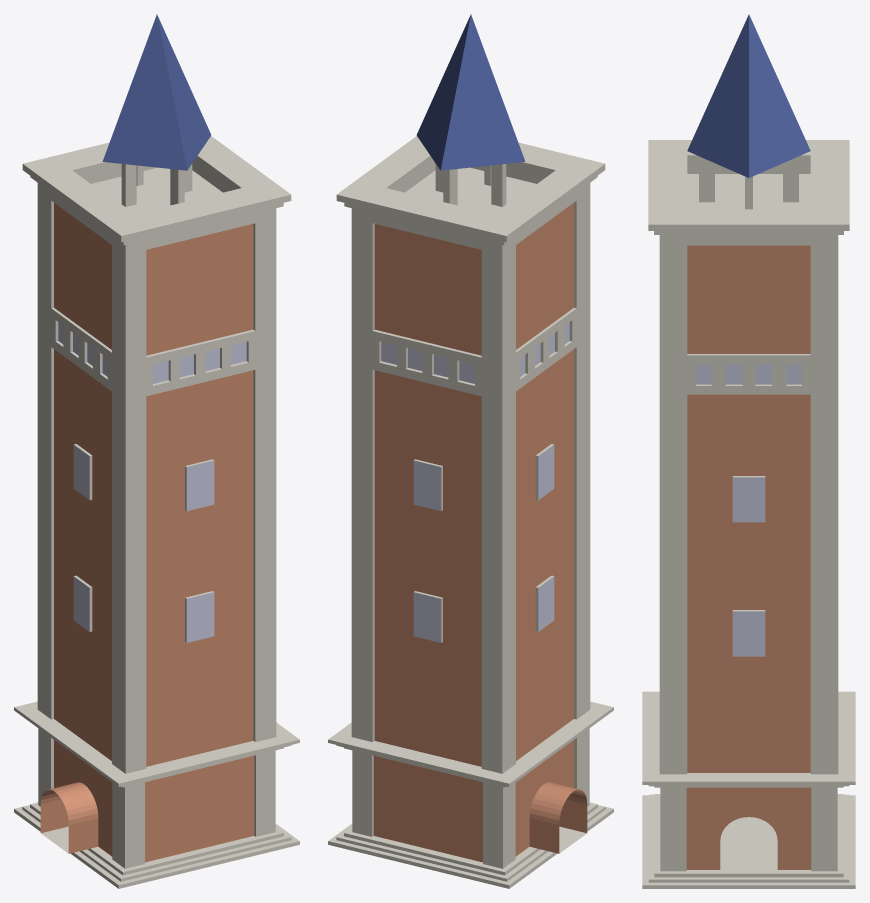
The model's file is Museo.glb.
The picture shows the model from 3 angles, left to right: view 1: azimuth 30°, elevation 25°; view 2: azimuth 150°, elevation 25°; view 3: azimuth 270°, elevation 25°; orthographic projection.
Visible parts, largest first — view 1: Cube; view 2: Cube; view 3: Cube.
Boxes of the visible parts, x1=… form: Cube: x1=14, y1=14, x2=299, y2=888; Cube: x1=328, y1=14, x2=613, y2=888; Cube: x1=642, y1=14, x2=855, y2=888.
Size of what is drawn, in the model's own units: 15.54 by 62.74 by 14.6.
